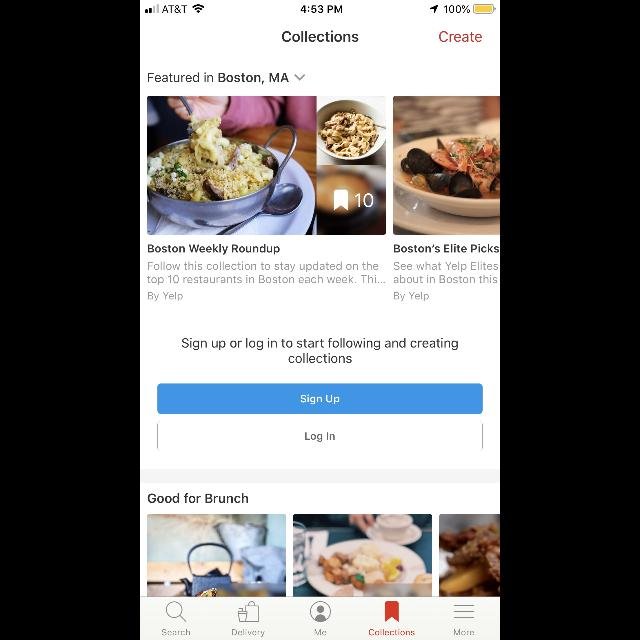icon: (310, 600, 332, 622), (166, 602, 187, 622), (238, 602, 258, 622), (334, 189, 348, 211), (385, 602, 399, 622), (454, 604, 474, 618), (294, 74, 306, 82)
image: (148, 96, 386, 234), (394, 96, 500, 234), (293, 514, 432, 596), (148, 514, 286, 596), (438, 514, 499, 596)
text: (147, 262, 385, 302), (182, 338, 458, 364), (394, 262, 500, 302), (148, 73, 290, 85), (148, 243, 280, 254), (148, 493, 248, 503), (394, 244, 500, 253), (282, 31, 358, 43), (440, 32, 482, 42), (369, 628, 415, 636), (354, 192, 374, 208), (232, 629, 266, 637), (162, 628, 190, 636), (454, 629, 474, 635), (315, 629, 327, 635)
textbutton: (158, 384, 482, 414), (158, 421, 482, 451)
uppertaskbar: (140, 0, 500, 14)
